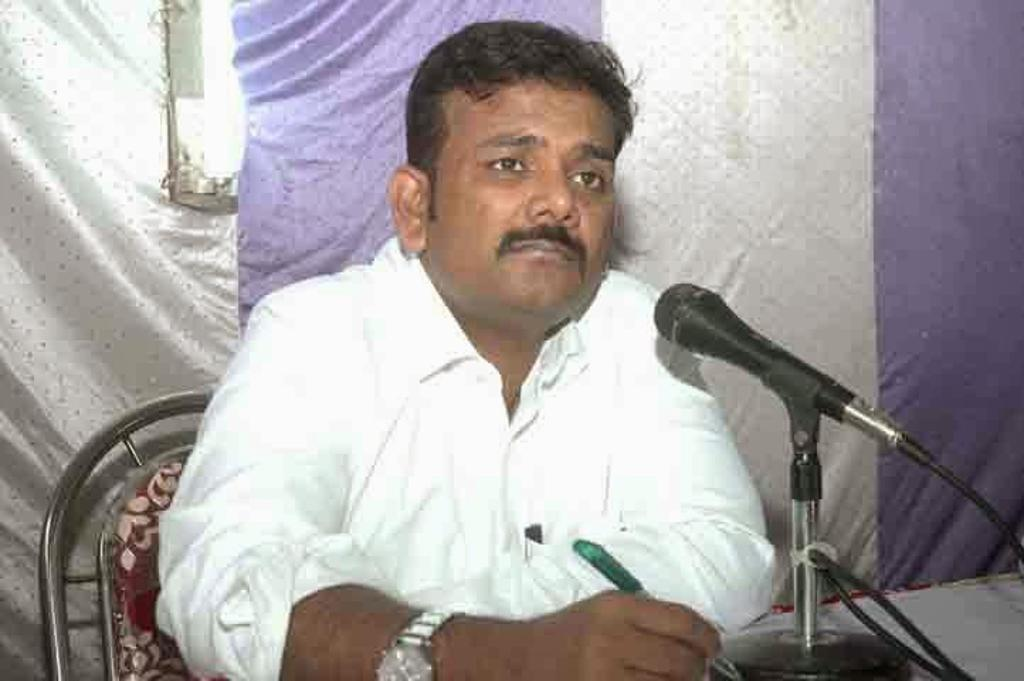face: (435, 81, 617, 311)
